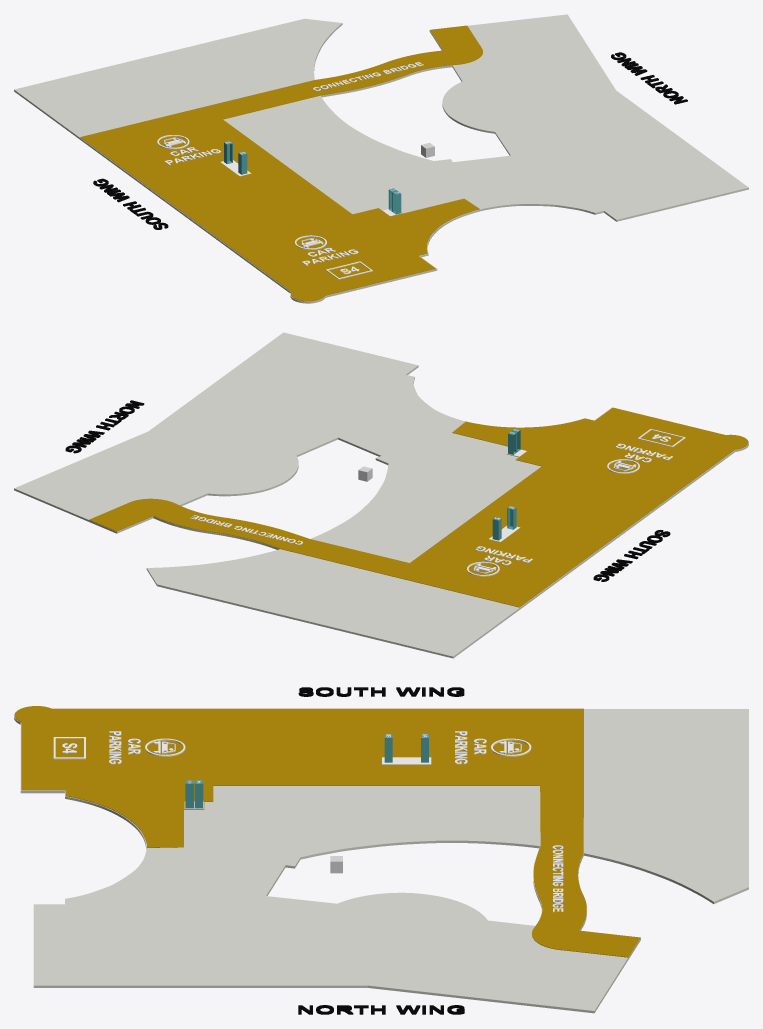
Rendered from floor-4.glb.
3 renders of one model, top to bottom at view 1: azimuth 30°, elevation 25°; view 2: azimuth 150°, elevation 25°; view 3: azimuth 270°, elevation 25°, orthographic. The views are drawn at different scales.
Visible parts, largest first — view 1: Fourth floor; view 2: Fourth floor; view 3: Fourth floor.
Boxes of the visible parts, x1=… form: Fourth floor: x1=14, y1=14, x2=748, y2=303; Fourth floor: x1=14, y1=332, x2=748, y2=658; Fourth floor: x1=14, y1=687, x2=748, y2=1014.
Size of the model in its own units: 119 by 5.79 by 113.
